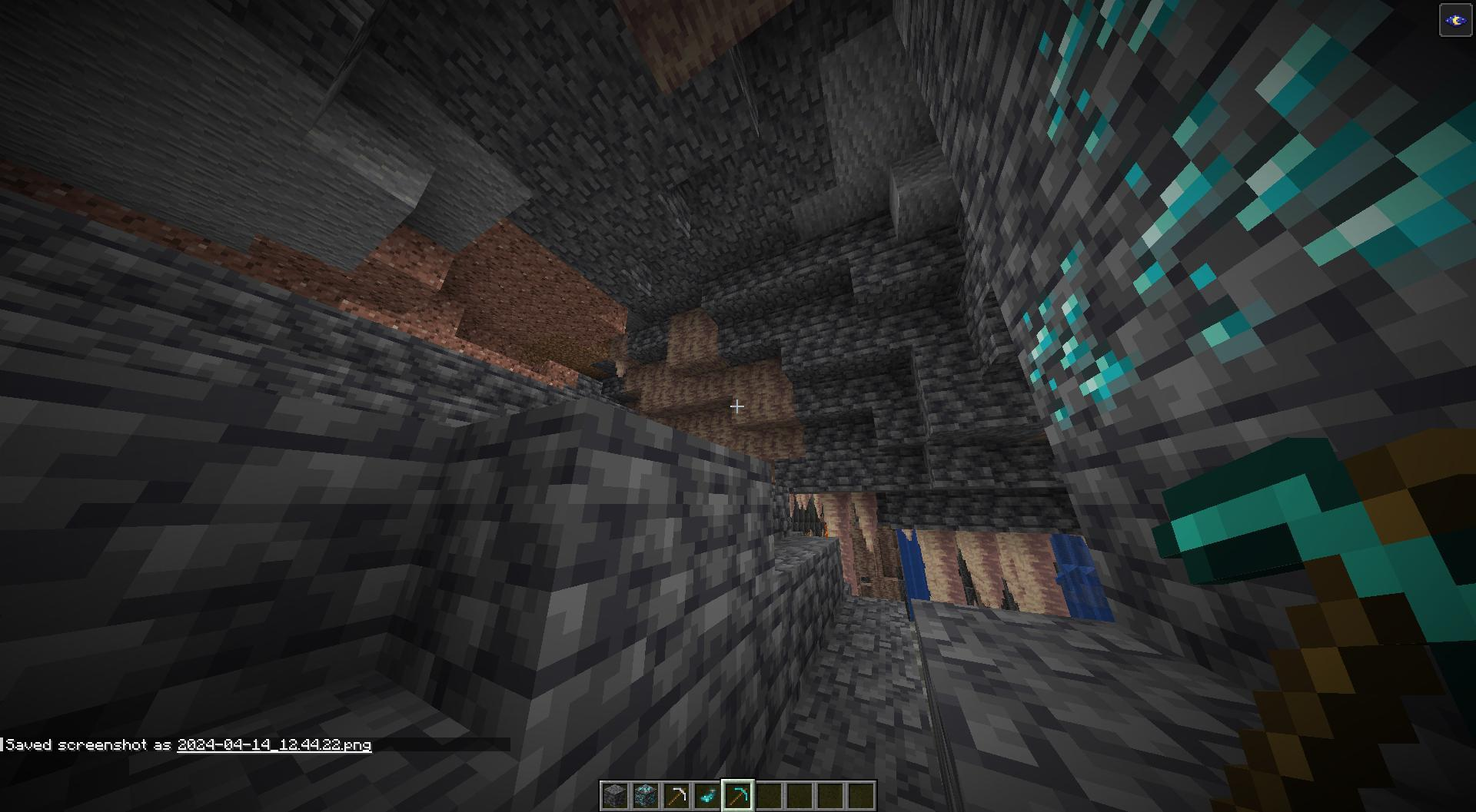diamond ore: (1160, 37, 1452, 374), (1044, 0, 1182, 178), (1011, 252, 1142, 421)
